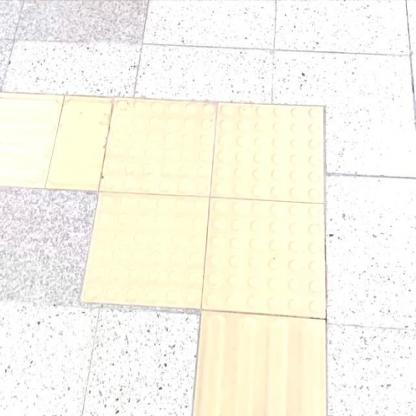podotacti: (56, 53, 354, 372)
